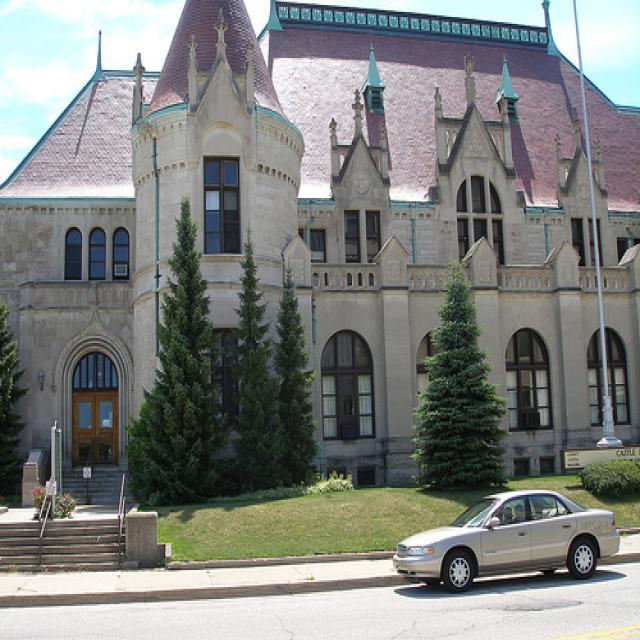car: (393, 489, 622, 592)
pottedplant: (56, 491, 78, 518), (32, 484, 47, 522)
